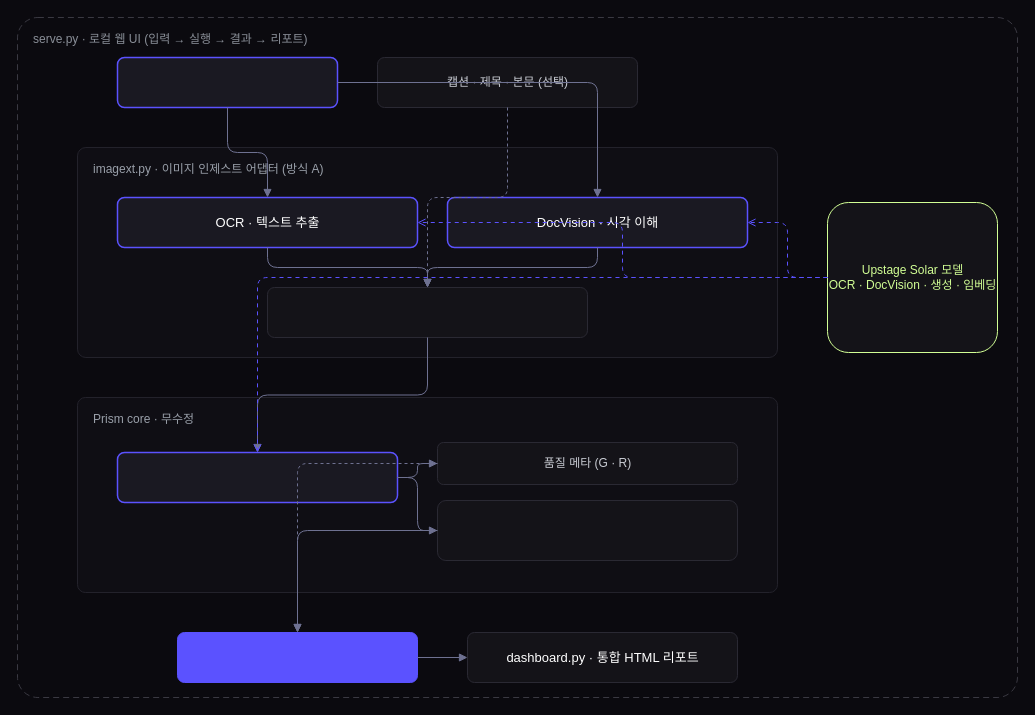
Some shapes in this 1035 by 715 pixel diagram are drawn without their labels. The centre of each missing label's shape, as x and y in pixels:
Content 합성 (4필드): the point at 427,312
pipeline.extract: the point at 257,477
메타 1세트: the point at 297,657
아이템 메타 · 리드문 · 엔티티 · 인텐트 · 콘텐츠 카테고리: the point at 587,530
이미지 (1..N장): the point at 227,82
